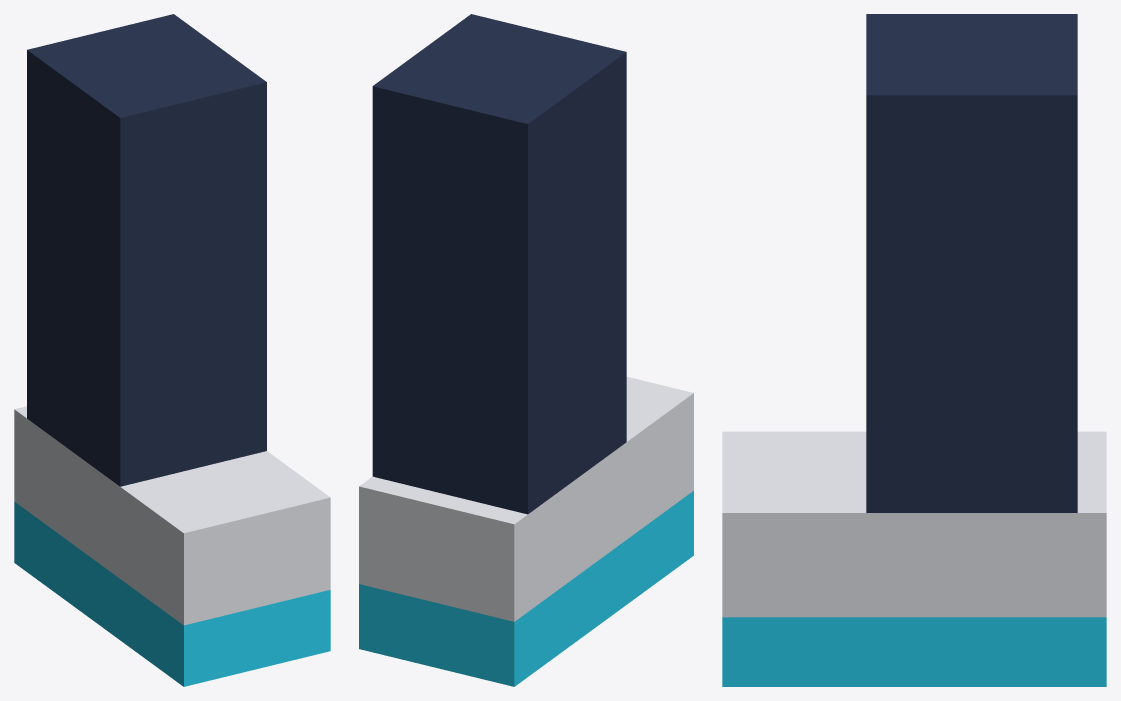
Rendered from runner_leg.obj.
3 views of the same model, side by side, from view 1: azimuth 30°, elevation 25°; view 2: azimuth 150°, elevation 25°; view 3: azimuth 270°, elevation 25° (orthographic). The views are drawn at different scales.
Parts seen in each view (by area): view 1: runner_leg; view 2: runner_leg; view 3: runner_leg.
Boxes of the visible parts, x1=… form: runner_leg: x1=14, y1=14, x2=330, y2=686; runner_leg: x1=359, y1=14, x2=693, y2=686; runner_leg: x1=722, y1=14, x2=1106, y2=686.
Size of the model in its own units: 0.1 by 0.34 by 0.2.
1 material, 1 textured.
